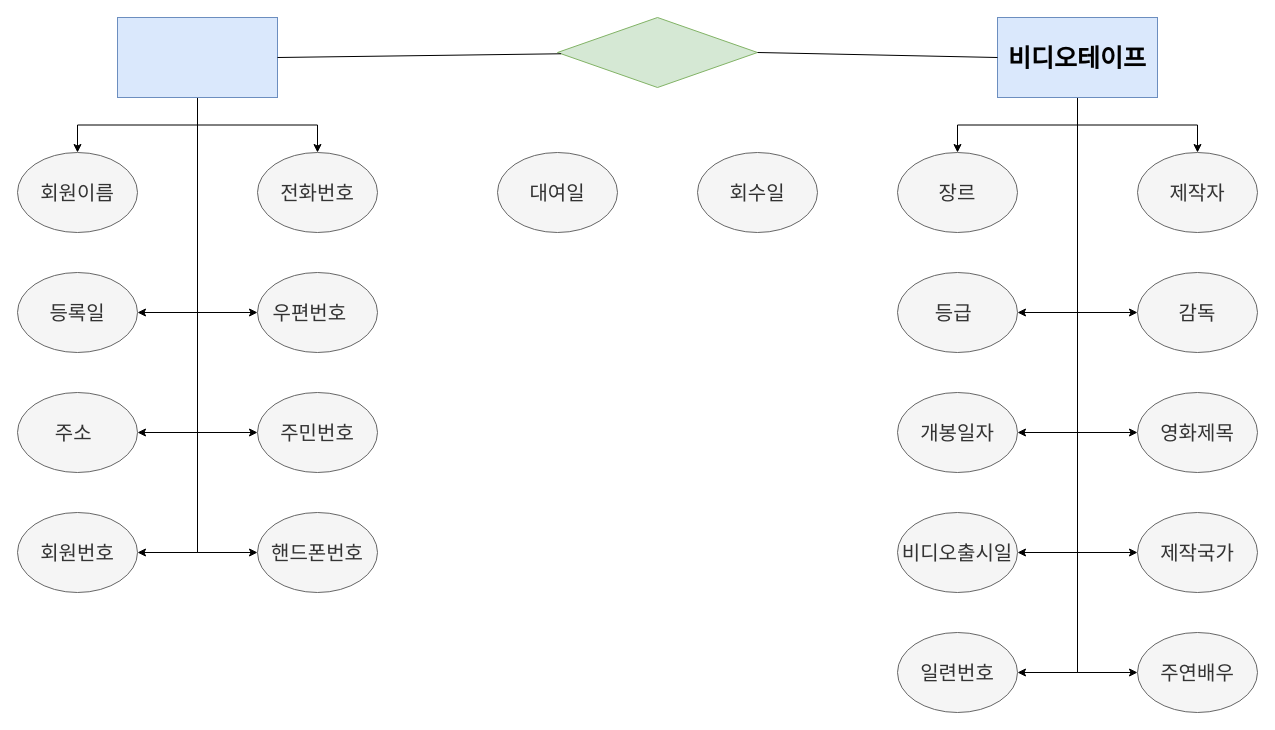
This 1275x730 diagram has some shape labels left out. Here are the shapes that lost their labels. From the top down, the box of each, then its label:
(116, 16, 278, 98): 회원
(556, 16, 758, 88): 대여
